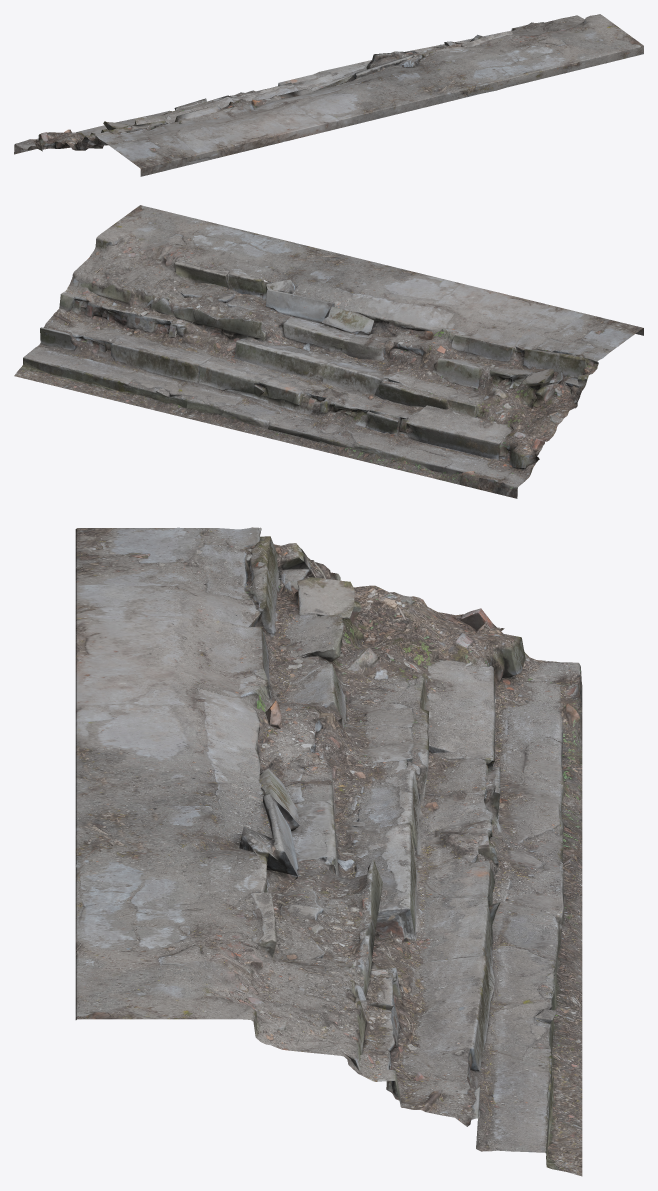
File: SM_Stairs_01_03.fbx
The picture shows the model from 3 angles, top to bottom: view 1: azimuth 30°, elevation 25°; view 2: azimuth 150°, elevation 25°; view 3: azimuth 270°, elevation 25°; orthographic projection. The views are drawn at different scales.
Visible parts, largest first — view 1: sm_Stairs_01_03_LOD0; view 2: sm_Stairs_01_03_LOD0; view 3: sm_Stairs_01_03_LOD0.
Boxes of the visible parts, <box> form: sm_Stairs_01_03_LOD0: <box>14,14,643,176</box>; sm_Stairs_01_03_LOD0: <box>14,205,643,498</box>; sm_Stairs_01_03_LOD0: <box>75,527,582,1176</box>.
Bounding box in the file's own units: 270 × 620 × 95.67.
